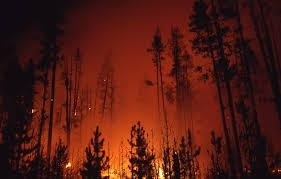fire: (152, 157, 170, 177), (64, 158, 74, 168)
